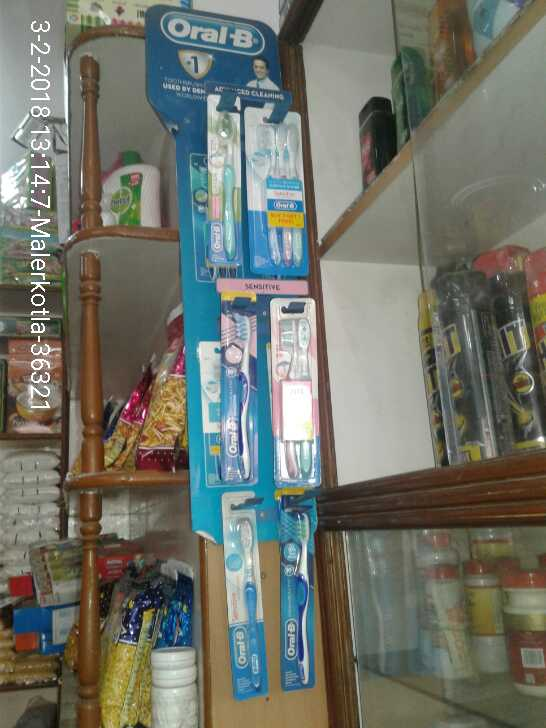oralb: (251, 115, 315, 270), (274, 308, 323, 478), (283, 505, 324, 692), (217, 308, 260, 481), (231, 512, 271, 693), (208, 104, 240, 273)
